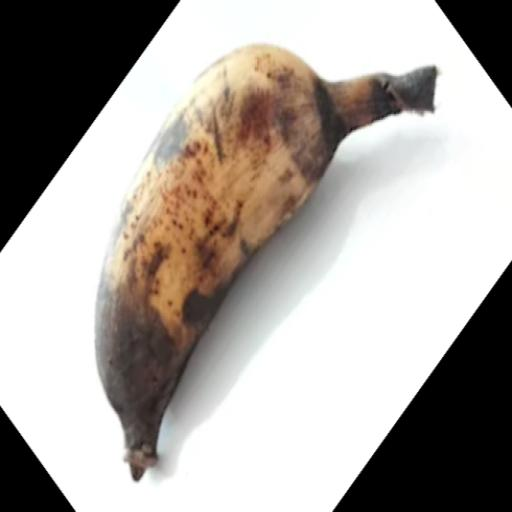banana-overripe: (78, 0, 402, 512)
